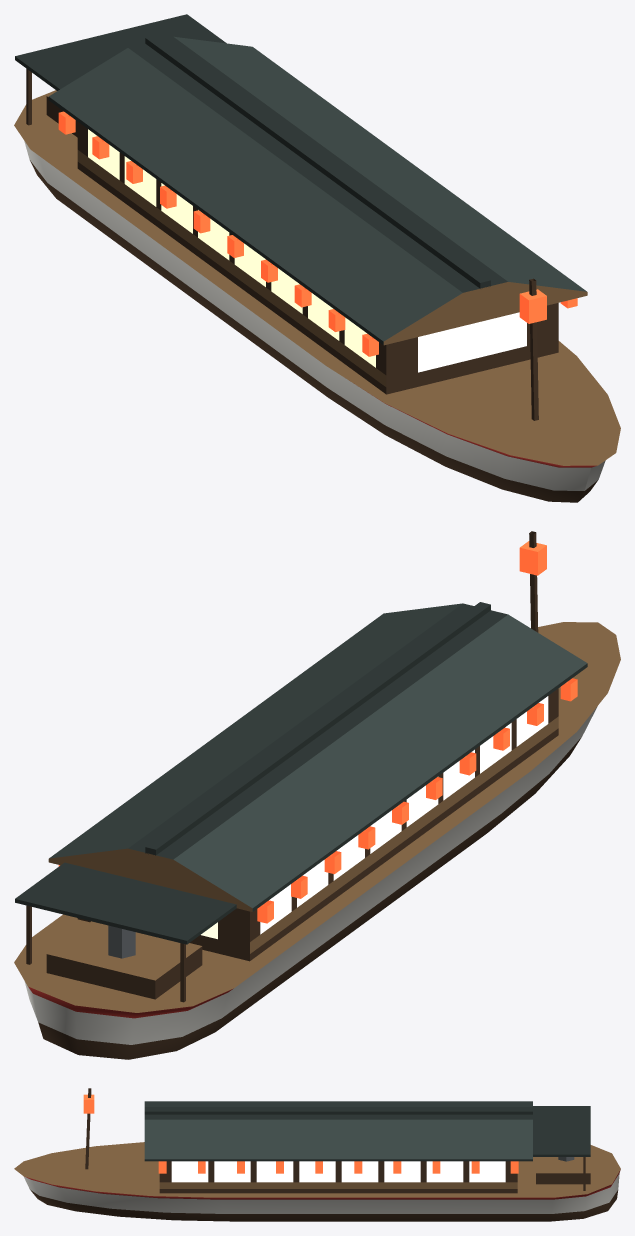
File: tokyo_yakatabune.glb
3 views of the same model, one above another, from view 1: azimuth 30°, elevation 25°; view 2: azimuth 150°, elevation 25°; view 3: azimuth 270°, elevation 25° (orthographic). The views are drawn at different scales.
Parts seen in each view (by area): view 1: tokyo_yakatabune; view 2: tokyo_yakatabune; view 3: tokyo_yakatabune.
Part boxes in pixels (x1,y1,x2,y2): tokyo_yakatabune: (14, 14, 620, 502); tokyo_yakatabune: (14, 531, 620, 1059); tokyo_yakatabune: (14, 1088, 620, 1221).
Bounding box in the file's own units: 4.6 × 4 × 20.
Materials: 1 (1 with a texture image).
